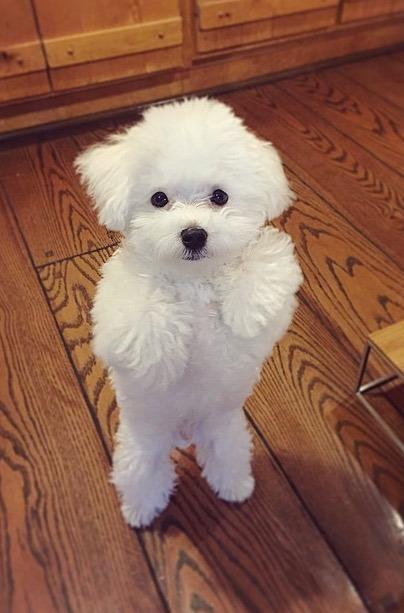puppy-dog: (75, 96, 302, 529)
